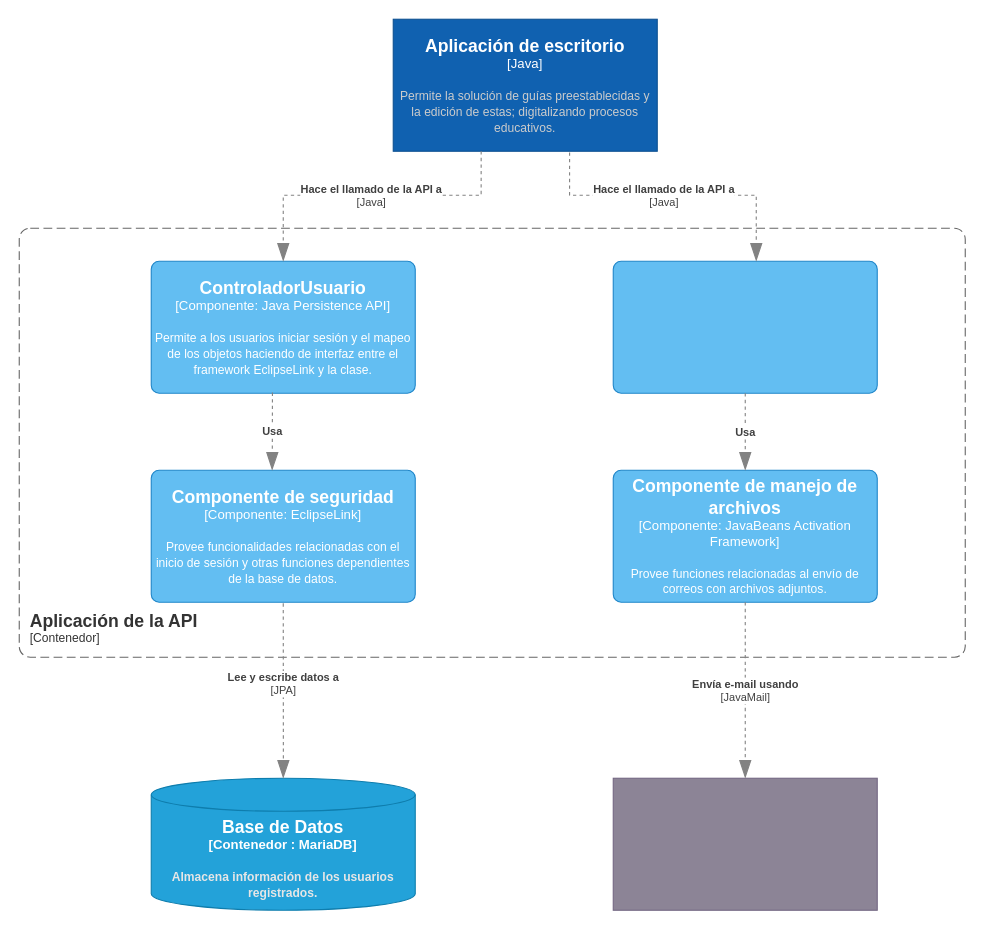
The diagram is 985 pixels wide and 930 high, and some of its shapes have lost their labels. Each missing label, with the centre of its shape:
"Envío de correos [Componente: JavaMail] Envía los correos al administrador." goes at [744,326].
"Sistema de E-mail [Sistema de Software] Gestiona los correos." goes at [744,843].
